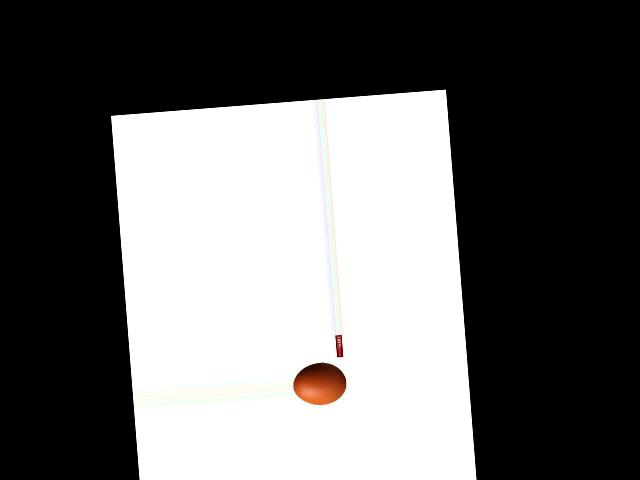egg: (292, 361, 347, 407)
